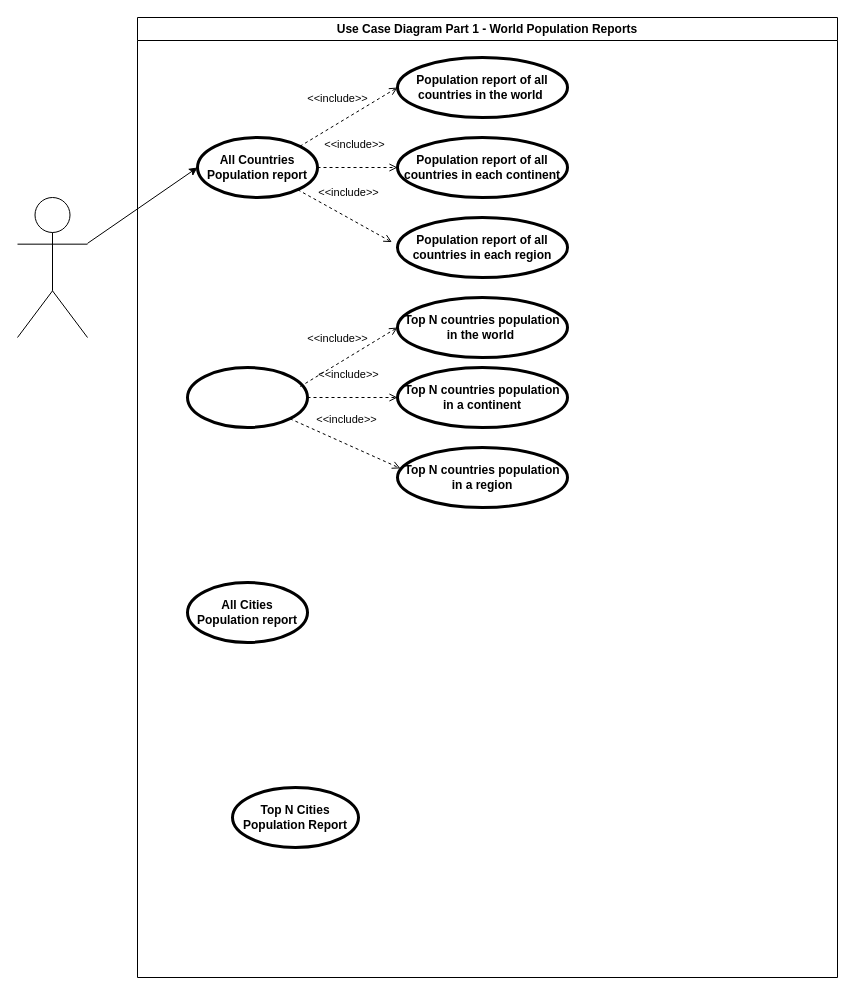
Image size: 855x995. Some labels were removed from this diagram. The shapes that lost their labels are listed below. From the top down, each one's box as (x1, y1, x2, y2) in pixels, then its label:
(16, 196, 88, 338): Data Analyst
(186, 366, 308, 428): Top N Countries Population Report
